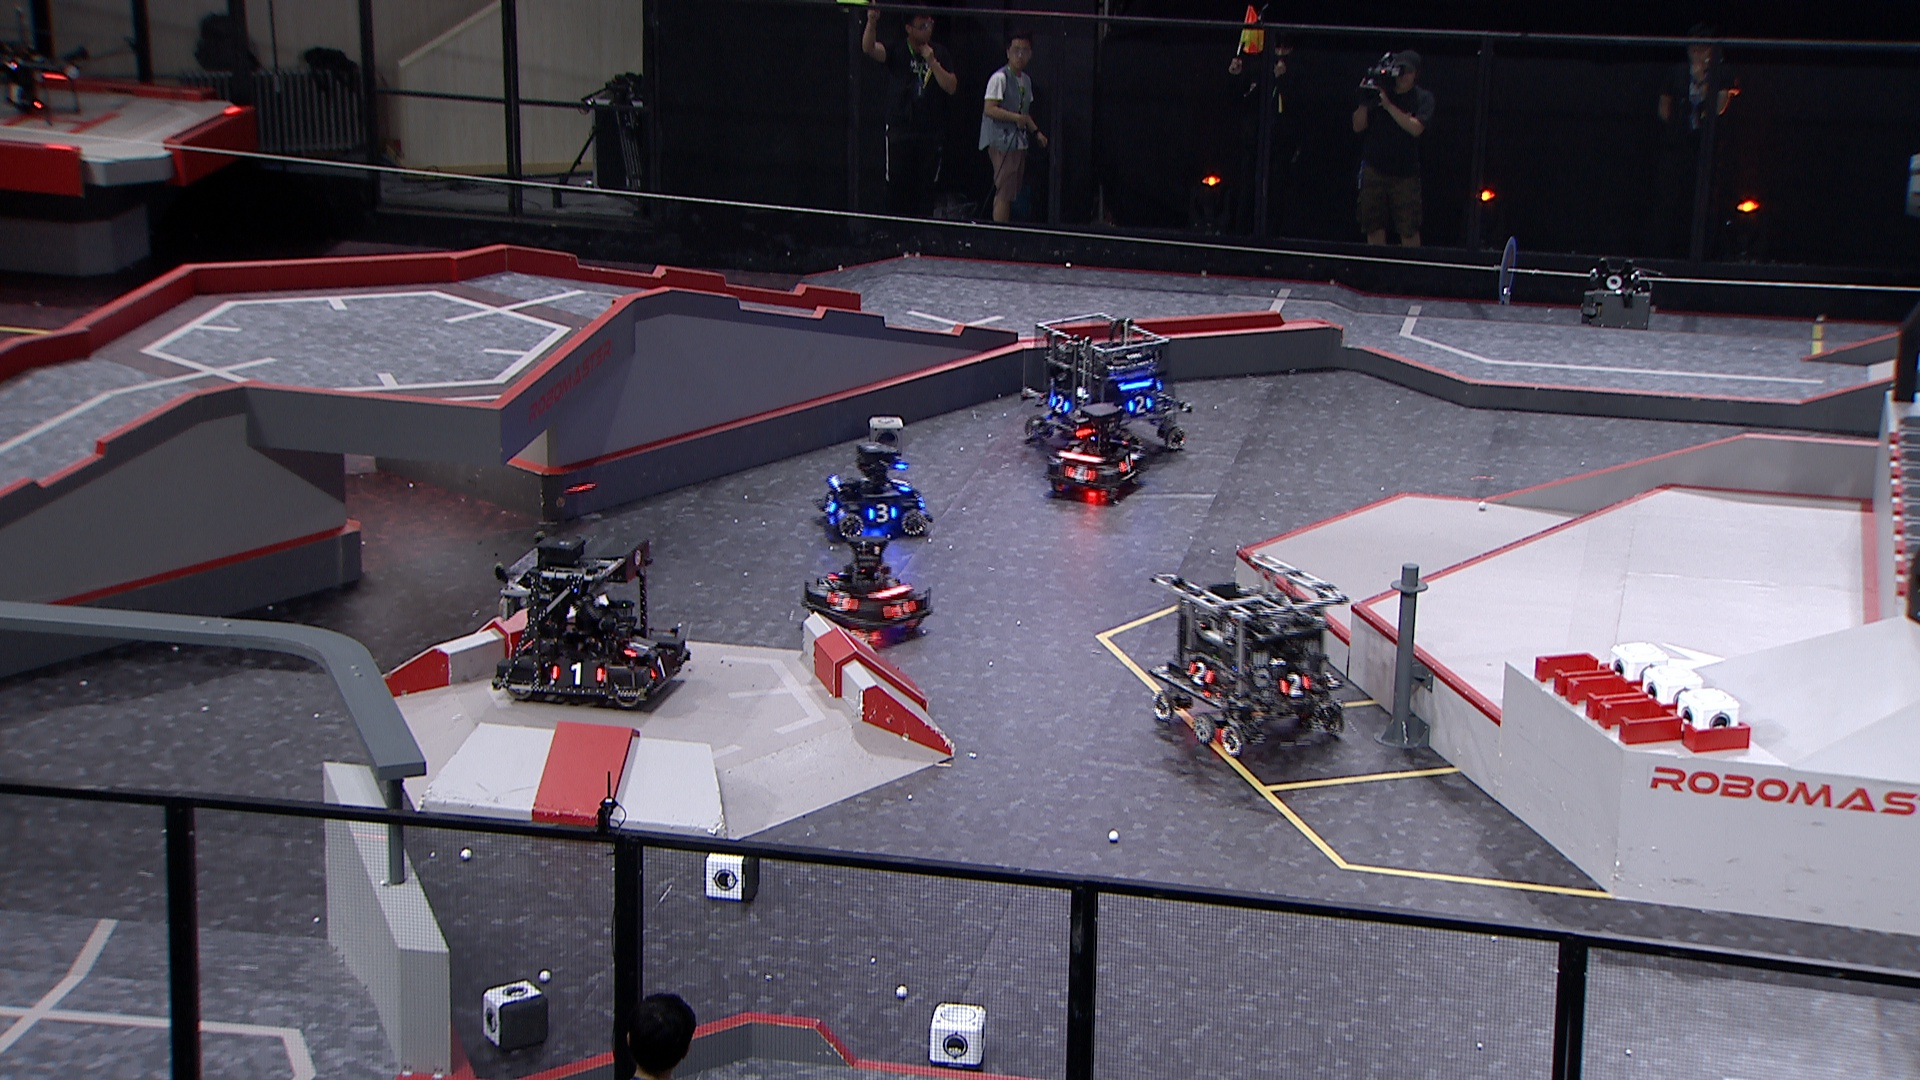armor: (550, 659, 603, 688), (1185, 659, 1215, 690), (1280, 670, 1309, 699), (651, 650, 675, 680), (622, 632, 650, 657), (1064, 463, 1096, 483), (887, 597, 916, 618), (823, 589, 855, 608), (1130, 396, 1153, 417), (868, 505, 898, 520), (1116, 455, 1135, 476), (893, 475, 913, 495), (822, 491, 837, 514), (1048, 394, 1068, 413)
car: (1147, 553, 1346, 756), (489, 531, 688, 712), (1021, 310, 1187, 462), (803, 534, 934, 642), (814, 438, 931, 546), (1043, 404, 1145, 502)
